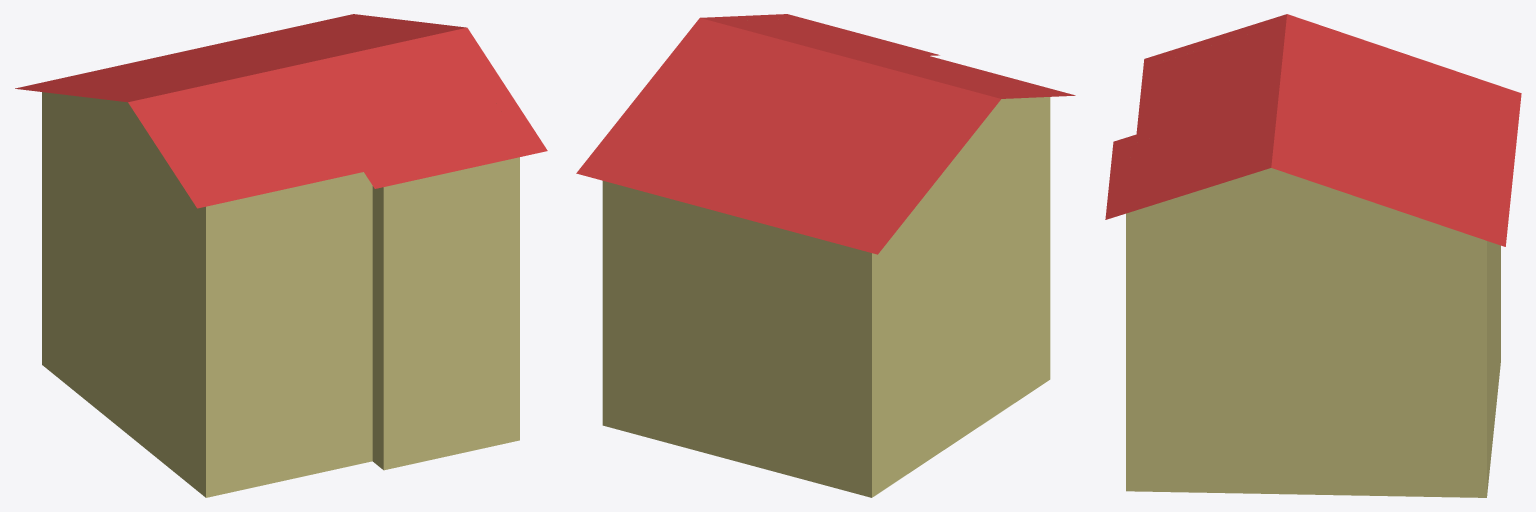
3 views of the same model, side by side, from view 1: azimuth 30°, elevation 25°; view 2: azimuth 150°, elevation 25°; view 3: azimuth 270°, elevation 25° (orthographic). The views are drawn at different scales.
Size of the model in its own units: 9.67 by 10.57 by 9.37.
